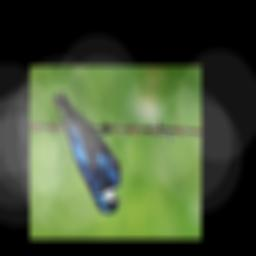Swallow: (51, 90, 123, 214)
